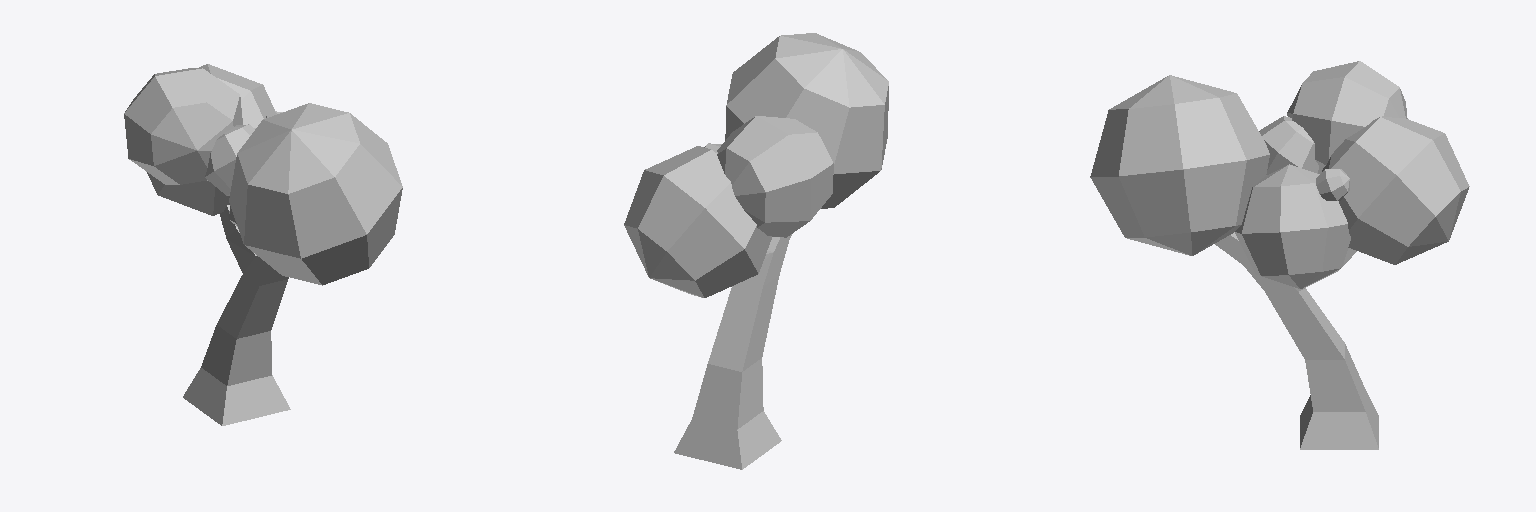
File: low poly tree OBJ.obj
The picture shows the model from 3 angles: view 1: azimuth 30°, elevation 25°; view 2: azimuth 150°, elevation 25°; view 3: azimuth 270°, elevation 25°; orthographic projection.
Visible parts, largest first — view 1: Esfera.3, Cubo, Esfera.4, Esfera, Esfera.5; view 2: Esfera.3, Esfera, Cubo, Esfera.4; view 3: Esfera.3, Esfera, Cubo, Esfera.1, Esfera.4, Esfera.5, Esfera.2.
Boxes of the visible parts, x1,y1,x2,y2 form: Esfera.3: [229, 103, 402, 285]; Cubo: [183, 205, 290, 425]; Esfera.4: [124, 68, 242, 184]; Esfera: [147, 64, 274, 215]; Esfera.5: [205, 124, 254, 195]; Esfera.3: [725, 33, 888, 208]; Esfera: [624, 146, 771, 297]; Cubo: [674, 234, 791, 469]; Esfera.4: [717, 116, 833, 237]; Esfera.3: [1090, 75, 1269, 255]; Esfera: [1322, 116, 1469, 264]; Cubo: [1215, 232, 1378, 449]; Esfera.1: [1235, 164, 1350, 288]; Esfera.4: [1287, 61, 1407, 173]; Esfera.5: [1259, 116, 1318, 175]; Esfera.2: [1316, 169, 1349, 200].
Size of the model in its own units: 6.37 by 11.92 by 11.93.